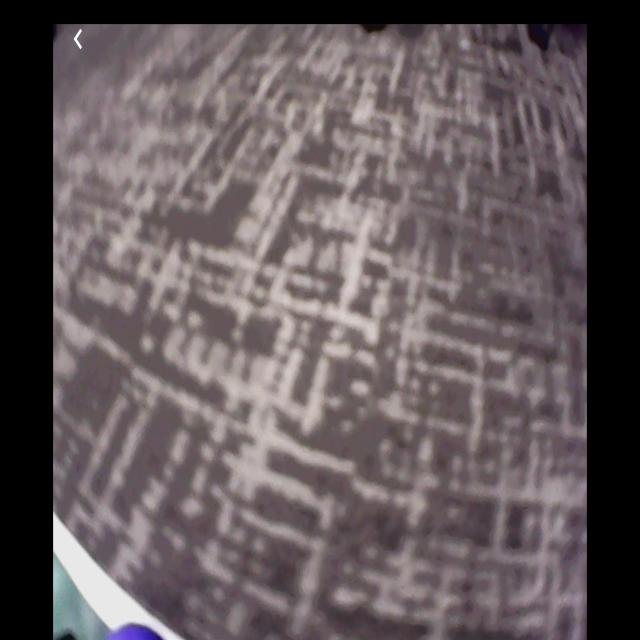ball: (106, 620, 166, 640)
